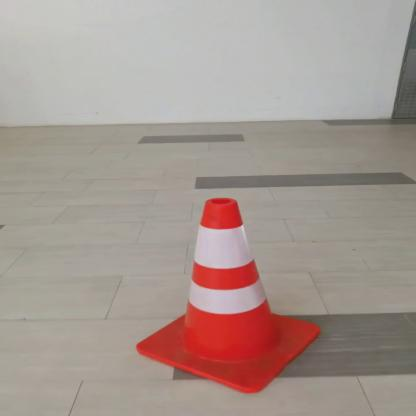cone: (126, 192, 330, 393)
